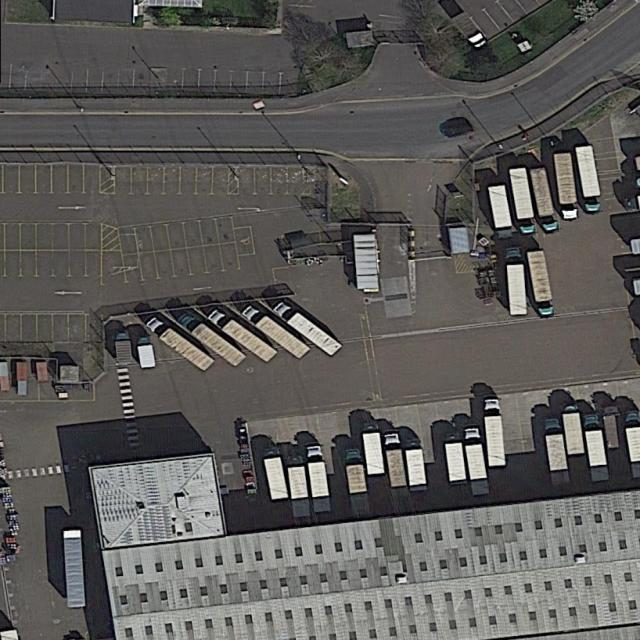large-vehicle: (140, 312, 218, 373), (237, 303, 315, 362), (270, 298, 345, 359), (174, 308, 249, 368), (203, 306, 280, 364), (541, 416, 575, 495), (527, 165, 562, 235), (303, 442, 334, 515), (461, 423, 491, 497), (342, 446, 372, 519), (582, 411, 612, 484), (527, 249, 557, 321), (574, 144, 604, 216), (509, 166, 538, 237), (553, 151, 581, 221), (503, 245, 529, 318), (482, 396, 508, 468), (286, 452, 313, 520), (261, 445, 291, 504), (487, 184, 516, 242), (451, 10, 491, 51), (440, 431, 469, 486), (559, 402, 588, 457), (382, 430, 408, 489), (360, 421, 387, 477), (402, 436, 429, 492), (622, 408, 640, 482), (601, 404, 628, 451), (135, 335, 158, 370), (113, 328, 134, 365)
small-vehicle: (440, 121, 476, 140)
